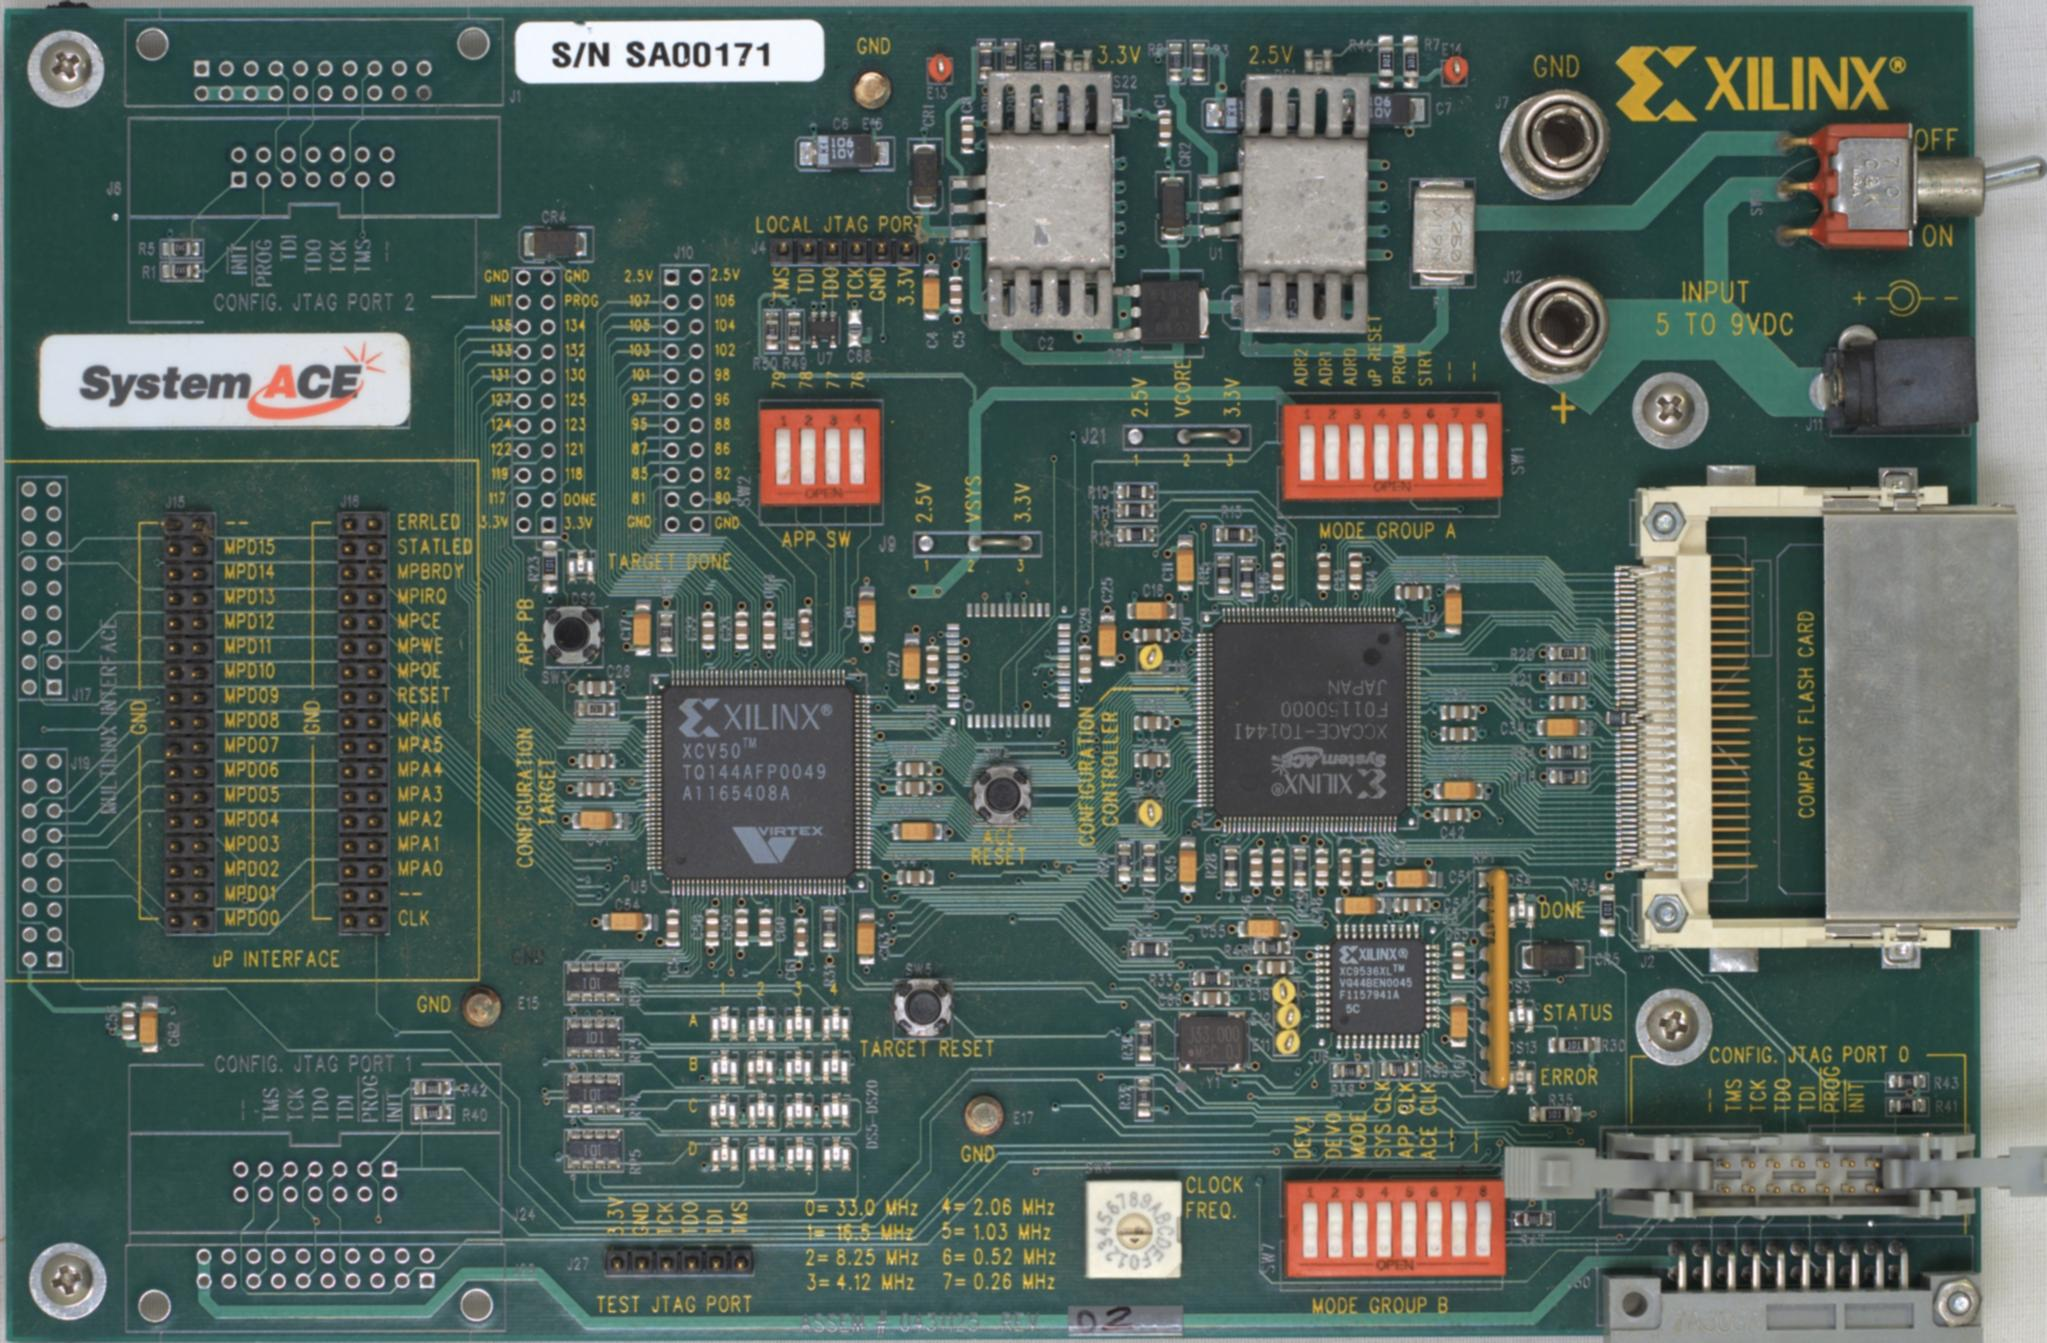tact switch: (544, 604, 604, 669), (974, 767, 1034, 830), (896, 977, 955, 1039)
tranzystor: (1115, 280, 1212, 345)
